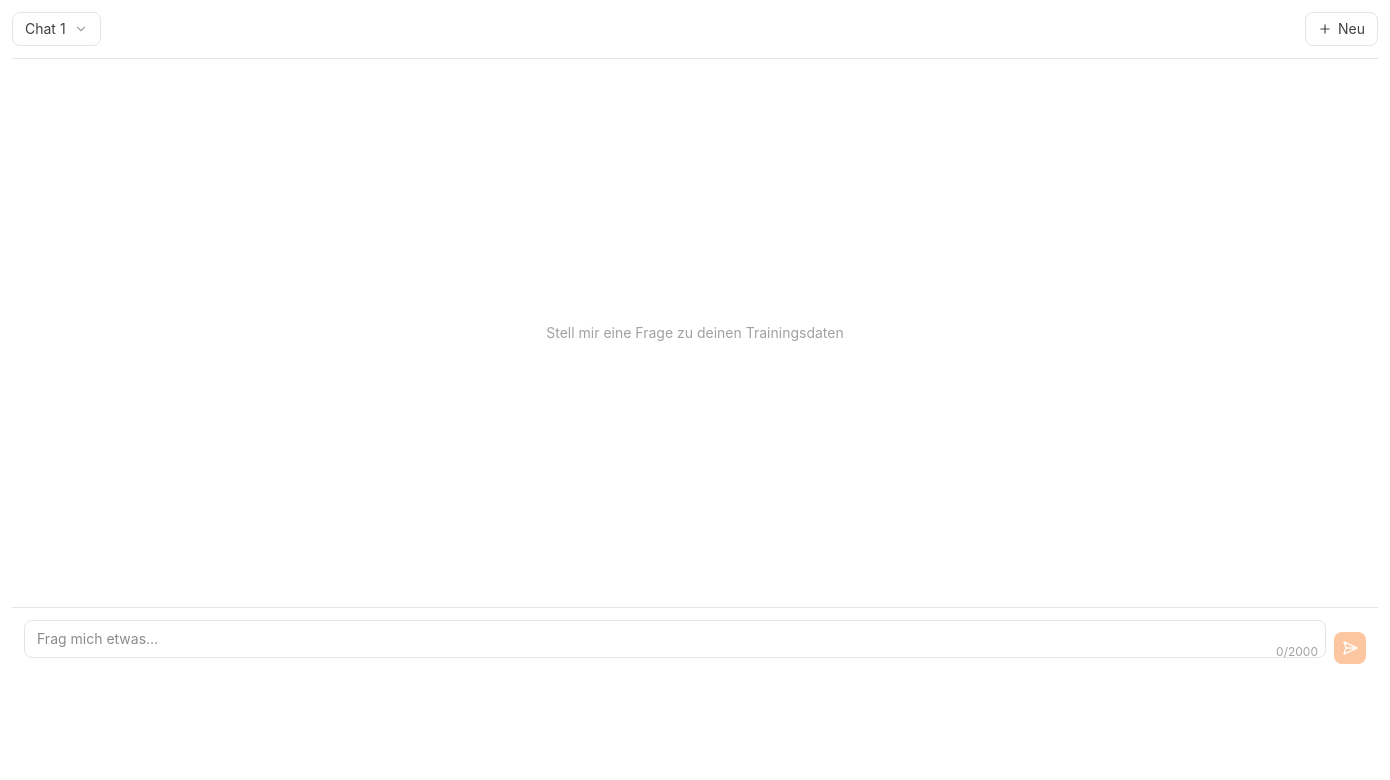
Test: ChatPage › renders chat.user_question and finishes the streaming state
The image size is (1390, 780).
Step 1. Type "Bitte vorbereiten" into the text box with placeholder "Frag mich etwas…" → (675, 639), box [24,620,1326,658]
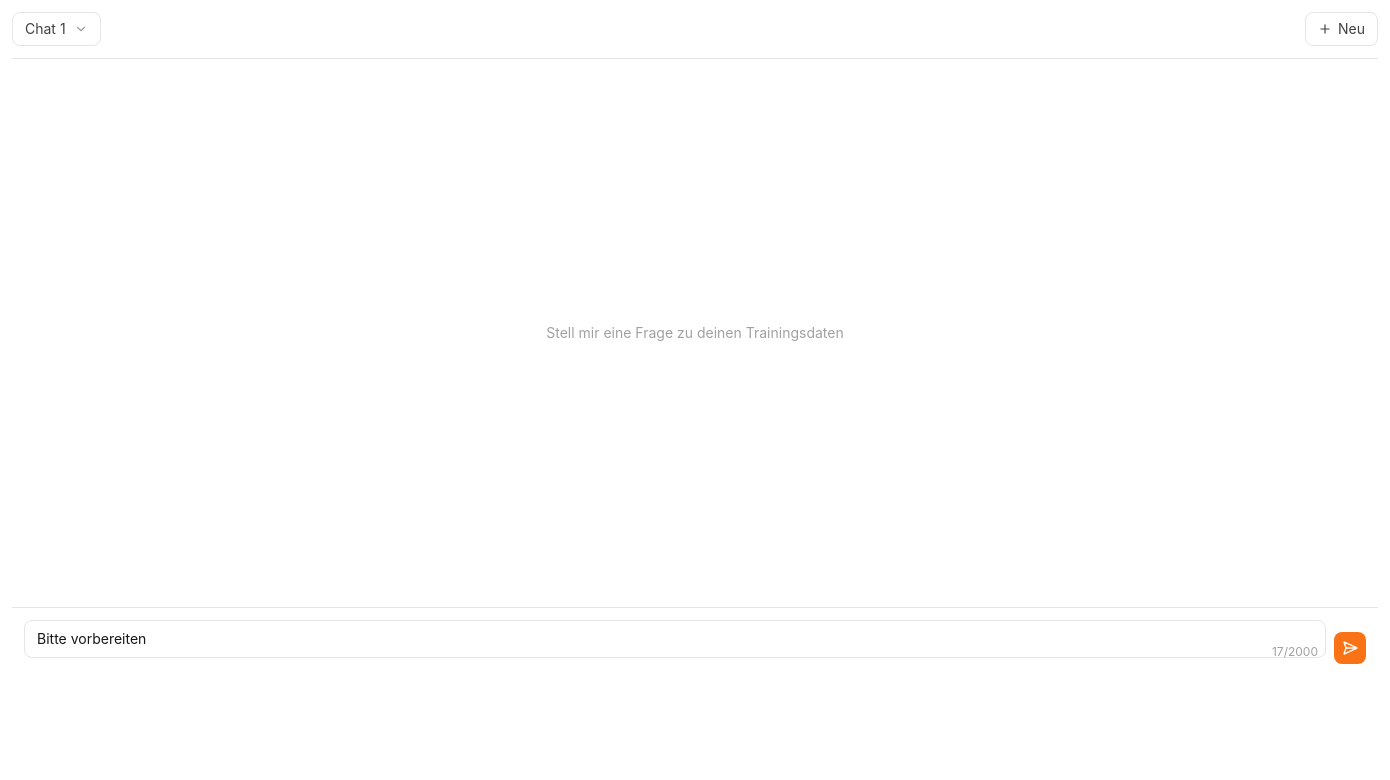
Step 2. Press Enter in the text box with placeholder "Frag mich etwas…", box [24,620,1326,658]
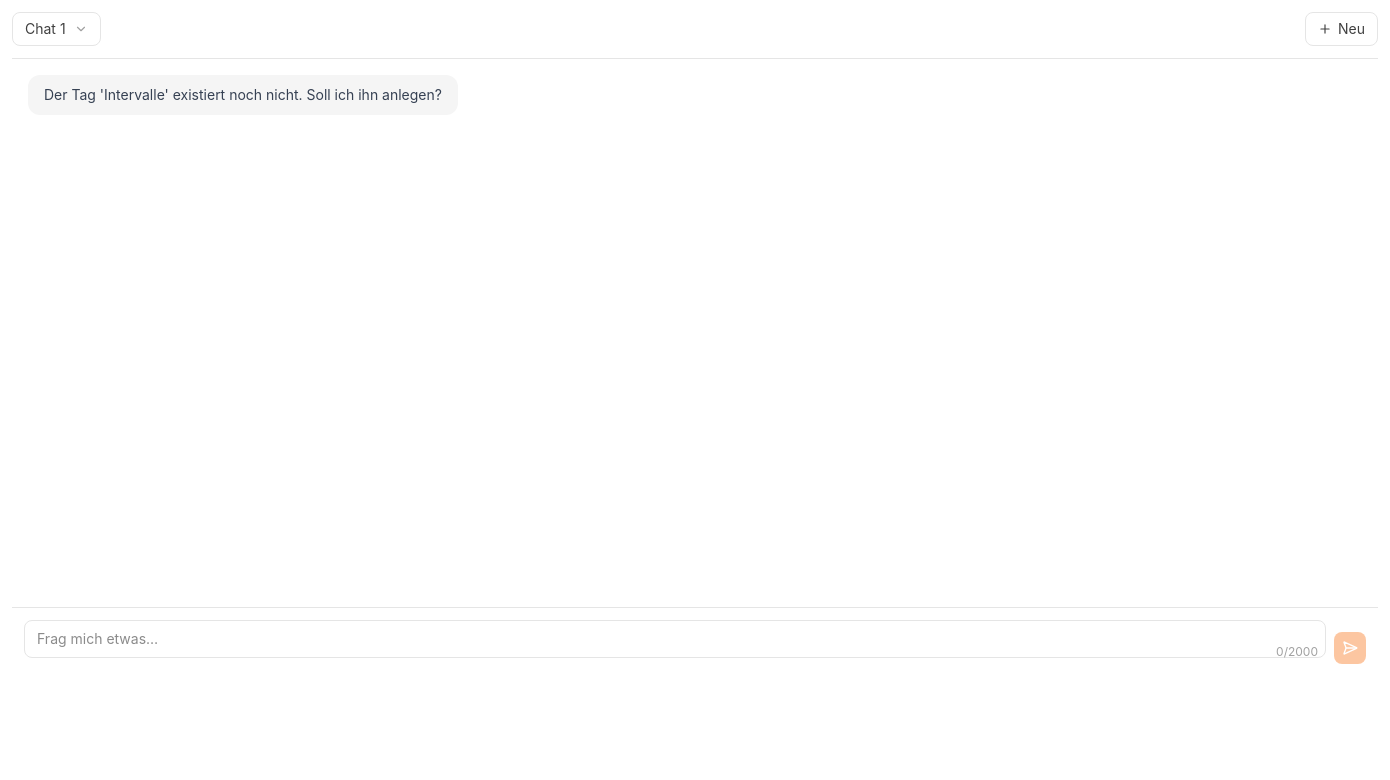
Now the text "Der Tag 'Intervalle' existiert noch nicht. Soll ich ihn anlegen?" is shown, box [44,83,442,107]
